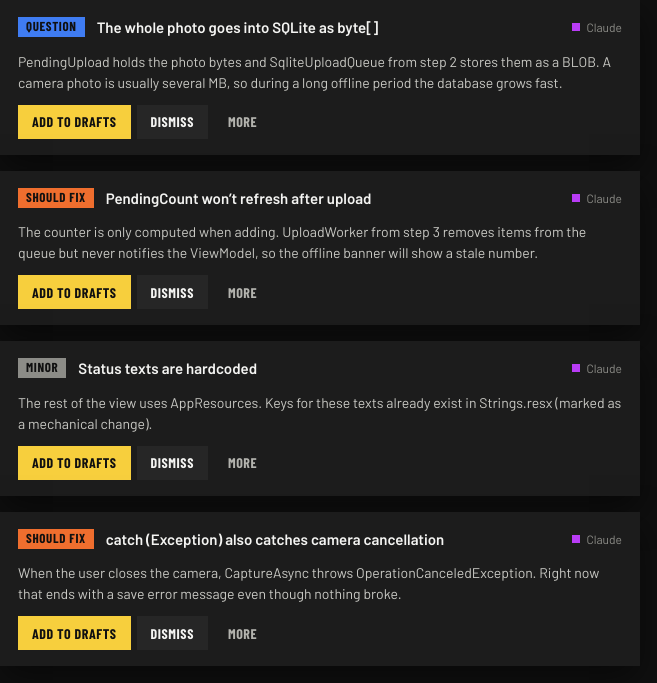
Test case: NoteCard › F-07.6 shows the severity word, title, Claude label, body and Add to drafts, Dismiss, More
Expected: the text "Should fix" next to "PendingCount won’t refresh after upload" is shown, [26,189,86,205]
Expected: the text "Claude" is shown, [572,189,622,207]
Click the button "More" below "PendingCount won’t refresh after upload".
click(243, 292)  # box [214,275,271,309]
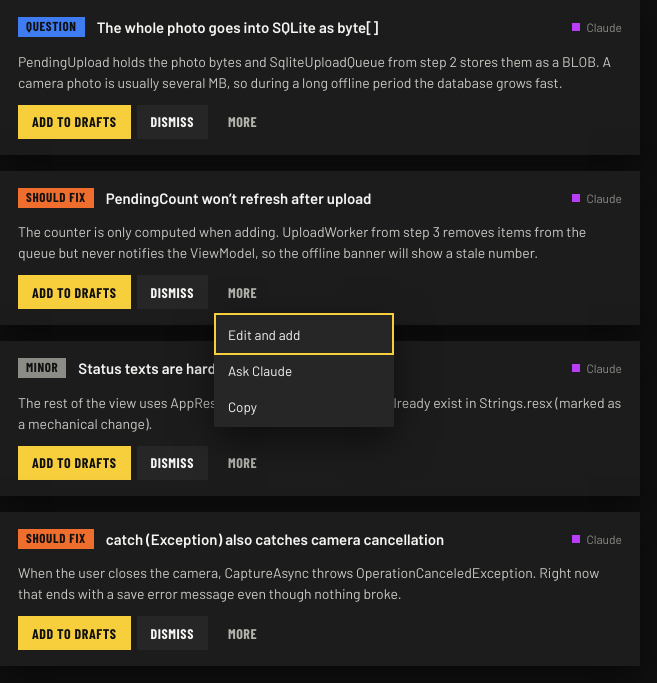
Expected: the menu items read "Edit and add", "Ask Claude", "Copy", in this order, [218,317,390,351]; [218,353,390,387]; [218,389,390,423]
